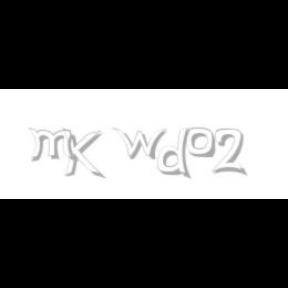2: (211, 128, 245, 176)
K: (62, 128, 102, 180)
d: (158, 128, 195, 180)
m: (27, 128, 79, 162)
o: (186, 128, 214, 158)
w: (112, 128, 172, 160)
